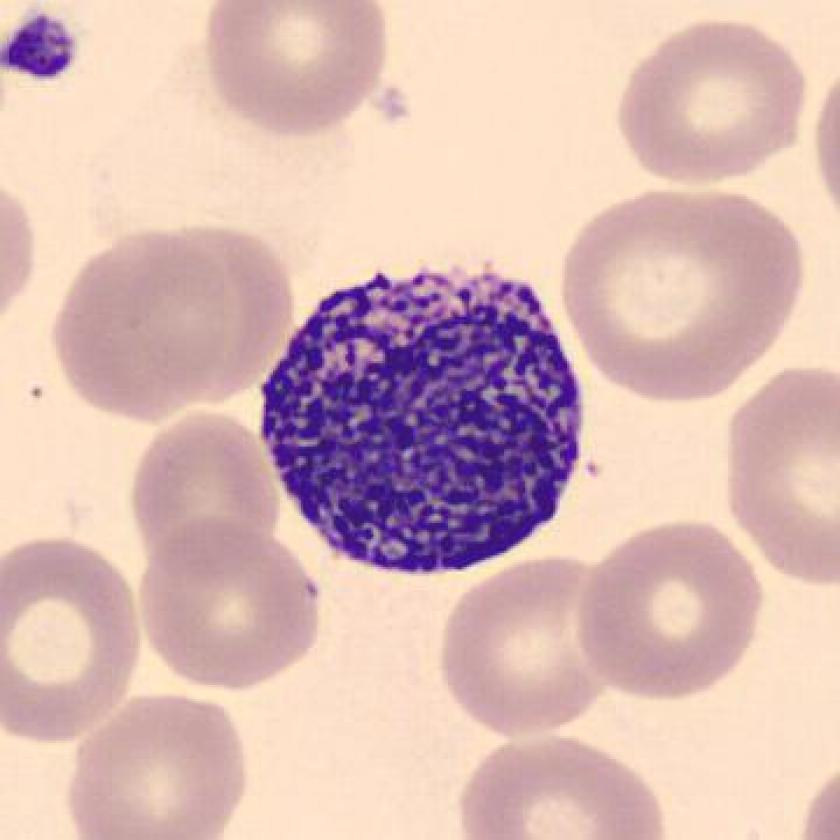basophil: (256, 258, 592, 579)
